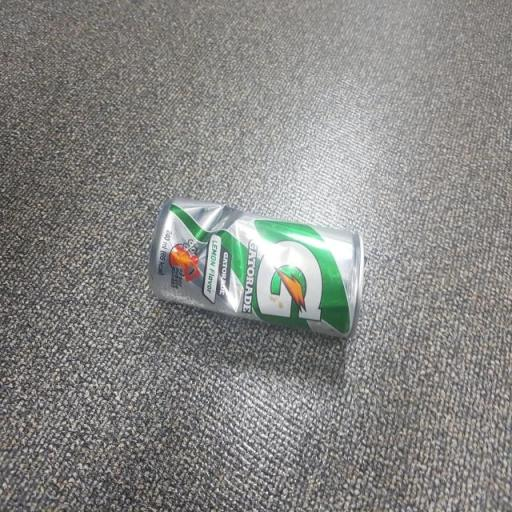metal: (126, 172, 382, 384)
